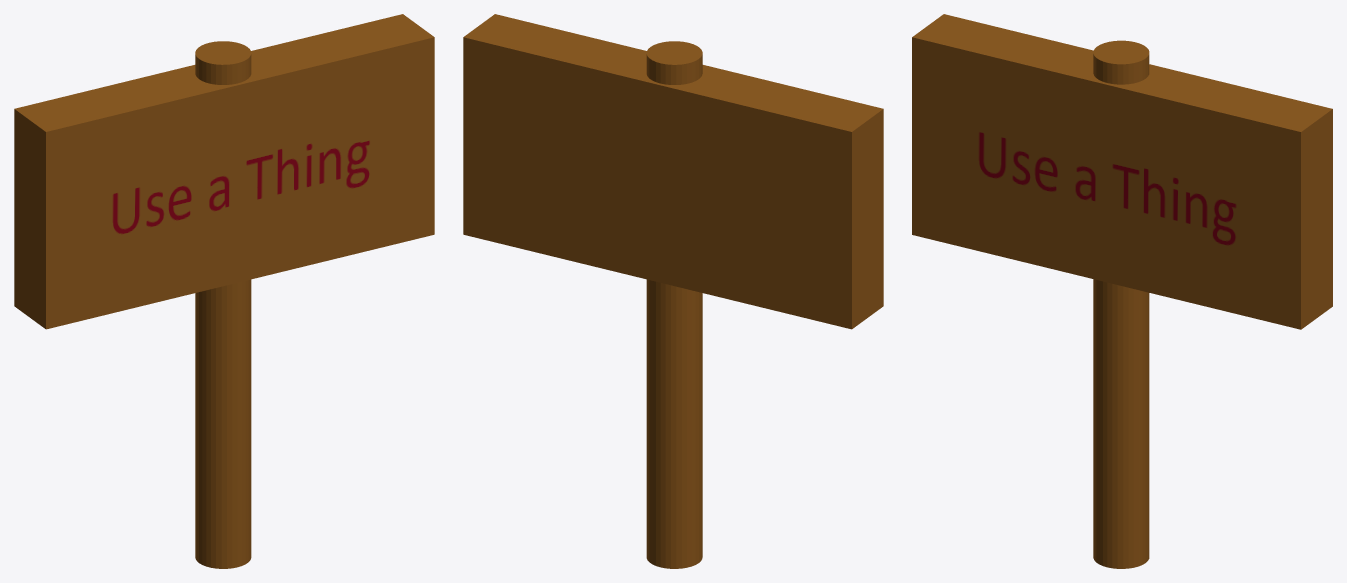
File: UseAThingSign.fbx
3 views of the same model, side by side, from view 1: azimuth 30°, elevation 25°; view 2: azimuth 150°, elevation 25°; view 3: azimuth 330°, elevation 25° (orthographic).
Parts seen in each view (by area): view 1: Cube.004, Cylinder.004; view 2: Cube.004, Cylinder.004; view 3: Cube.004, Cylinder.004.
Boxes of the visible parts, x1,y1,x2,y2 form: Cube.004: [14, 14, 434, 329]; Cylinder.004: [195, 41, 251, 568]; Cube.004: [463, 14, 883, 329]; Cylinder.004: [646, 41, 702, 568]; Cube.004: [912, 14, 1332, 329]; Cylinder.004: [1093, 40, 1149, 568].
Size of the model in its own units: 0.5827 by 4.12 by 5.11.
Materials: 2 (1 with a texture image).
